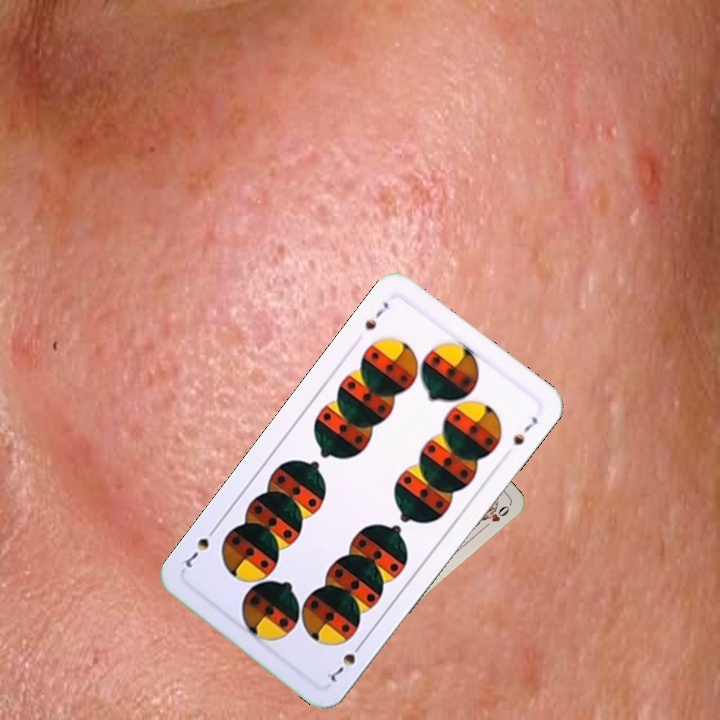S7: (326, 637, 367, 684), (360, 297, 392, 333)
